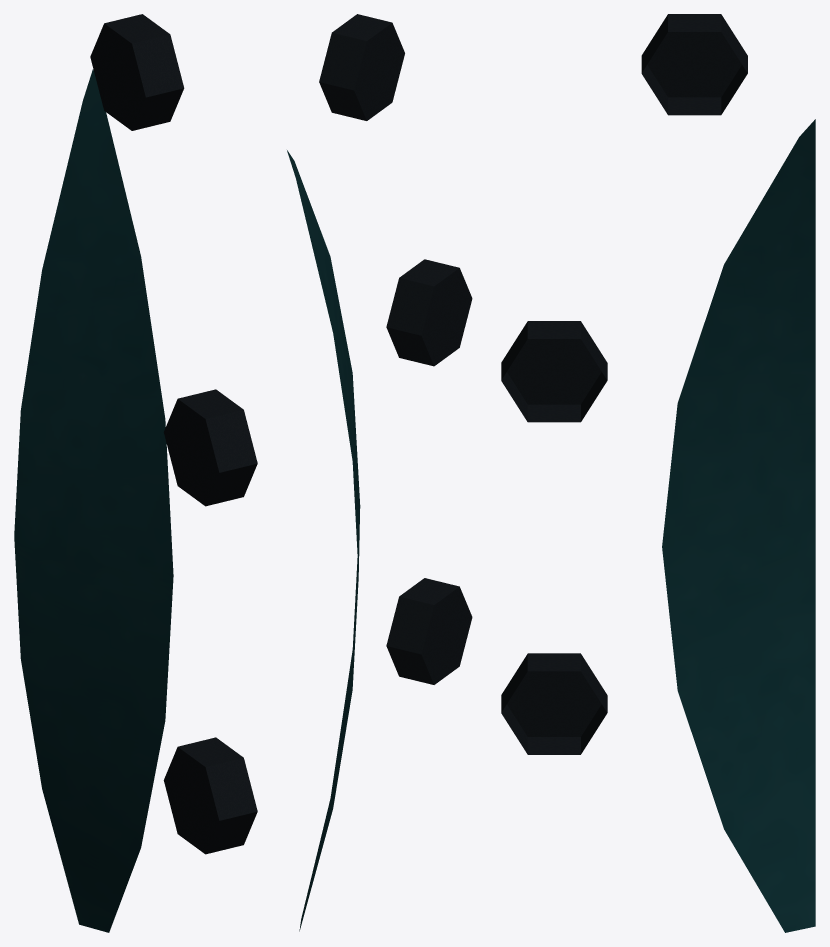
The model's file is cell_30.obj.
3 views of the same model, side by side, from view 1: azimuth 30°, elevation 25°; view 2: azimuth 150°, elevation 25°; view 3: azimuth 270°, elevation 25° (orthographic). The views are drawn at different scales.
Visible parts, largest first — view 1: cell_30; view 2: cell_30; view 3: cell_30.
Part boxes in pixels (box(x1,y1,x2,y2)): cell_30: box(14, 14, 257, 932); cell_30: box(287, 14, 472, 931); cell_30: box(501, 14, 815, 932).
Bounding box in the file's own units: 0.0658 × 0.7527 × 0.2382.
